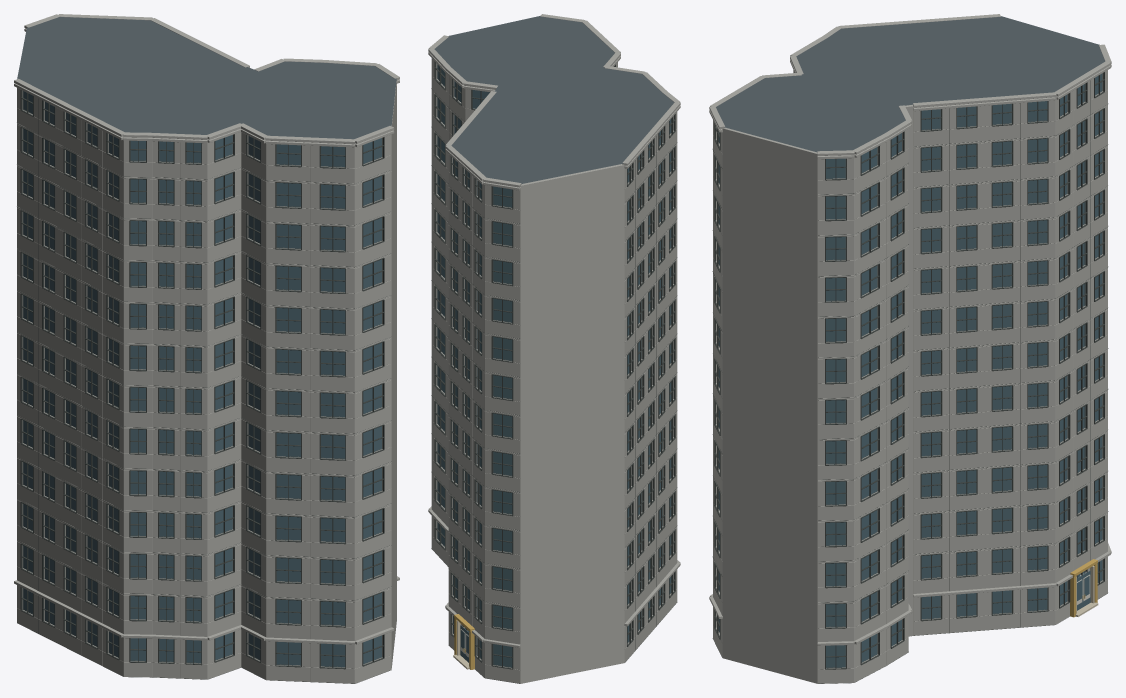
Rendered from pel-exterior-49e2ca8a439b.glb.
The picture shows the model from 3 angles, left to right: view 1: azimuth 30°, elevation 25°; view 2: azimuth 150°, elevation 25°; view 3: azimuth 270°, elevation 25°; orthographic projection. The views are drawn at different scales.
Parts seen in each view (by area): view 1: PEL.001; view 2: PEL.001; view 3: PEL.001.
Boxes of the visible parts, x1,y1,x2,y2 form: PEL.001: [14, 14, 399, 683]; PEL.001: [428, 14, 680, 683]; PEL.001: [709, 14, 1111, 683].
Size of the model in its own units: 24.89 by 44.15 by 30.27.
